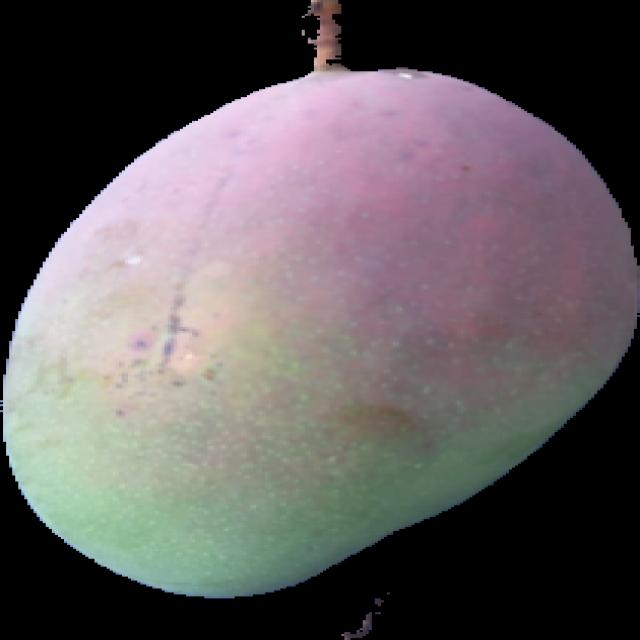Mango-sano: (0, 0, 639, 598)
